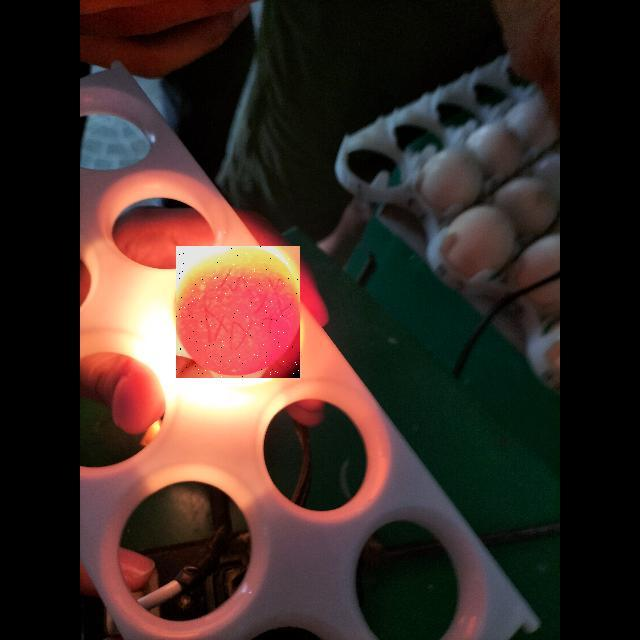Infertile: (176, 246, 300, 378)
